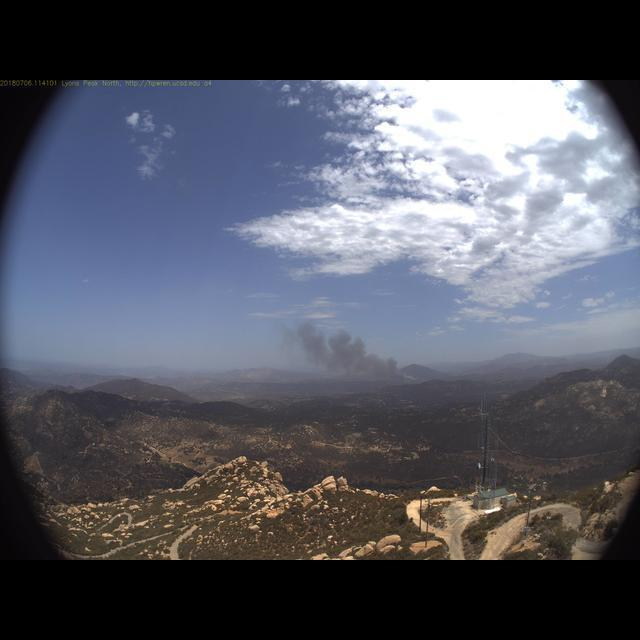Smoke: (274, 309, 454, 391)
